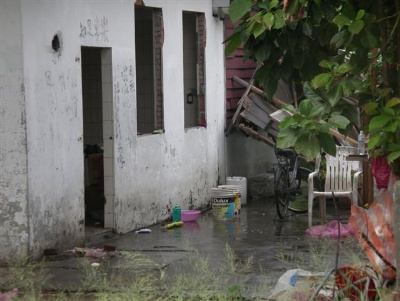bottle: (357, 129, 366, 155), (172, 204, 181, 222)
bowl: (181, 209, 202, 222)
bucket: (209, 187, 236, 223)
plastic_bag: (351, 191, 400, 284), (306, 220, 348, 237)
